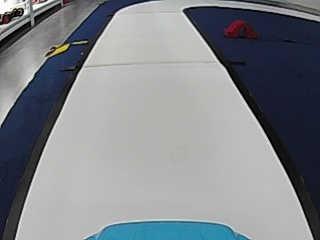bridge: (224, 18, 256, 38)
